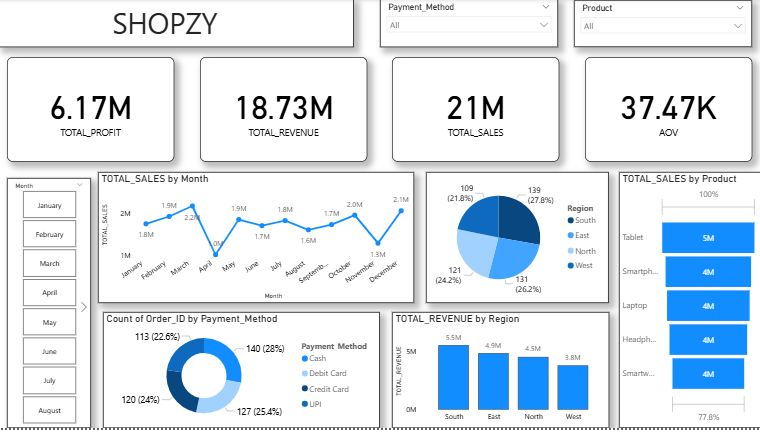

This screenshot's page, from the dashboard's own definition file:
{"tool":"powerbi","page":{"name":"Page 2","canvas":[1280,720],"ordinal":0},"visuals":[{"type":"card","fields":{"Values":["ecommerce_ba_dataset_500_rows.TOTAL_PROFIT"]},"box":[13.4,97.4,280.5,176.4],"z":0},{"type":"card","fields":{"Values":["ecommerce_ba_dataset_500_rows.TOTAL_REVENUE"]},"box":[337.6,97.4,280.5,176.4],"z":1000},{"type":"card","fields":{"Values":["ecommerce_ba_dataset_500_rows.TOTAL_SALES"]},"box":[660.2,97.4,280.5,176.4],"z":2000},{"type":"card","fields":{"Values":["ecommerce_ba_dataset_500_rows.AOV"]},"box":[984.4,97.4,280.5,176.4],"z":3000},{"type":"slicer","fields":{"Values":["ecommerce_ba_dataset_500_rows.Order_Date.Variation.Date Hierarchy.Month"]},"box":[13.4,300.7,141.1,419.9],"z":4000},{"type":"clusteredColumnChart","fields":{"Category":["ecommerce_ba_dataset_500_rows.Region"],"Y":["ecommerce_ba_dataset_500_rows.TOTAL_REVENUE"]},"box":[660.2,525.8,364.5,194.9],"z":5000},{"type":"pieChart","fields":{"Y":["CountNonNull(ecommerce_ba_dataset_500_rows.Payment_Method)"],"Category":["ecommerce_ba_dataset_500_rows.Region"]},"box":[717.3,290.6,307.4,220.1],"z":6000},{"type":"donutChart","fields":{"Y":["CountNonNull(ecommerce_ba_dataset_500_rows.Order_ID)"],"Category":["ecommerce_ba_dataset_500_rows.Payment_Method"]},"box":[174.7,525.8,465.3,194.9],"z":7000},{"type":"lineChart","fields":{"Category":["ecommerce_ba_dataset_500_rows.Order_Date.Variation.Date Hierarchy.Month"],"Y":["ecommerce_ba_dataset_500_rows.TOTAL_SALES"]},"box":[166.3,290.6,530.8,220.1],"z":8000},{"type":"funnel","fields":{"Category":["ecommerce_ba_dataset_500_rows.Product"],"Y":["ecommerce_ba_dataset_500_rows.TOTAL_SALES"]},"box":[1041.5,290.6,238.5,430],"z":9000},{"type":"textbox","box":[0,0,596.3,80.6],"z":10000},{"type":"slicer","fields":{"Values":["ecommerce_ba_dataset_500_rows.Product"]},"box":[965.9,1.7,299,79],"z":11000},{"type":"slicer","fields":{"Values":["ecommerce_ba_dataset_500_rows.Payment_Method"]},"box":[640,0,299,80.6],"z":11001}]}

Visuals, with their boxes in screenshot pixels (x1, y1, x2, y2), scaled from the page's 1280x720 canvas onto the 760x433 screenshot:
card - ecommerce_ba_dataset_500_rows.TOTAL_PROFIT: bbox=[8, 59, 175, 165]
card - ecommerce_ba_dataset_500_rows.TOTAL_REVENUE: bbox=[200, 59, 367, 165]
card - ecommerce_ba_dataset_500_rows.TOTAL_SALES: bbox=[392, 59, 559, 165]
card - ecommerce_ba_dataset_500_rows.AOV: bbox=[584, 59, 751, 165]
slicer - ecommerce_ba_dataset_500_rows.Order_Date.Variation.Date Hierarchy.Month: bbox=[8, 181, 92, 432]
clusteredColumnChart - ecommerce_ba_dataset_500_rows.Region x ecommerce_ba_dataset_500_rows.TOTAL_REVENUE: bbox=[392, 316, 608, 432]
pieChart - CountNonNull(ecommerce_ba_dataset_500_rows.Payment_Method) x ecommerce_ba_dataset_500_rows.Region: bbox=[426, 175, 608, 307]
donutChart - CountNonNull(ecommerce_ba_dataset_500_rows.Order_ID) x ecommerce_ba_dataset_500_rows.Payment_Method: bbox=[104, 316, 380, 432]
lineChart - ecommerce_ba_dataset_500_rows.Order_Date.Variation.Date Hierarchy.Month x ecommerce_ba_dataset_500_rows.TOTAL_SALES: bbox=[99, 175, 414, 307]
funnel - ecommerce_ba_dataset_500_rows.Product x ecommerce_ba_dataset_500_rows.TOTAL_SALES: bbox=[618, 175, 759, 432]
textbox: bbox=[0, 0, 354, 48]
slicer - ecommerce_ba_dataset_500_rows.Product: bbox=[574, 1, 751, 49]
slicer - ecommerce_ba_dataset_500_rows.Payment_Method: bbox=[380, 0, 558, 48]
